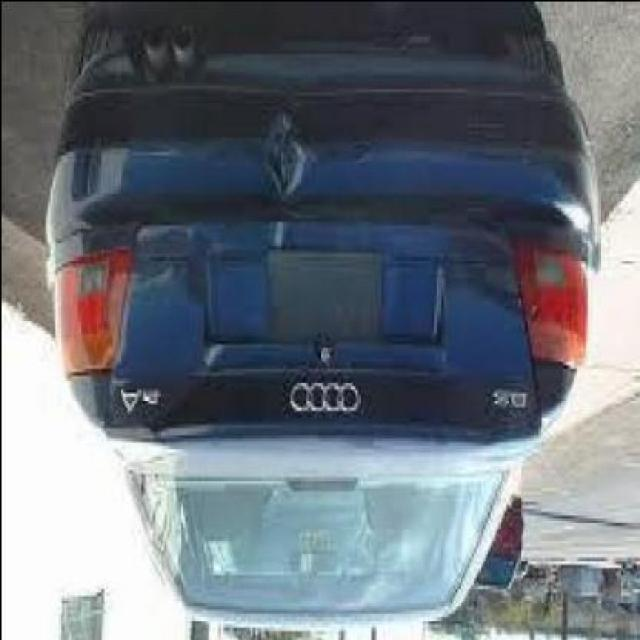damage: (258, 99, 316, 230)
